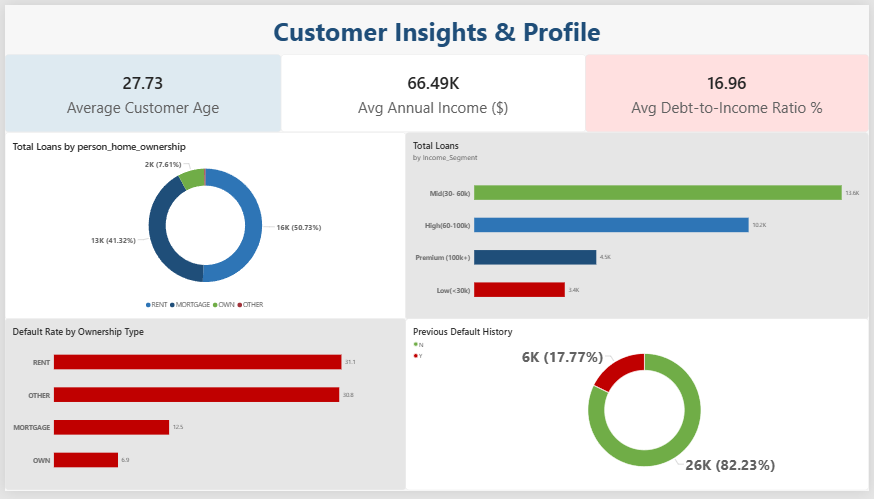

This screenshot's page, from the dashboard's own definition file:
{"tool":"powerbi","page":{"name":"Customer Insights","canvas":[1920,1080],"ordinal":2},"visuals":[{"type":"textbox","box":[0,0,1920,109.8],"z":0},{"type":"card","fields":{"Values":["credit_risk_dataset.Avg Customer Age"]},"box":[0,111.1,613.6,171.9],"z":1000},{"type":"card","fields":{"Values":["credit_risk_dataset.Avg Customer Income"]},"box":[613.6,111.1,677,171.9],"z":2000},{"type":"card","fields":{"Values":["credit_risk_dataset.Avg Debt-to-Income Ratio"]},"box":[1290.6,111.1,629.4,171.9],"z":3000},{"type":"donutChart","fields":{"Y":["credit_risk_dataset.Total Loans"],"Category":["credit_risk_dataset.person_home_ownership"]},"box":[0,283,891.2,415.2],"z":4000},{"type":"barChart","fields":{"Category":["credit_risk_dataset.Income_Segment"],"Y":["credit_risk_dataset.Total Loans"]},"box":[891.2,283,1028.8,415.2],"z":5000},{"type":"barChart","title":"Default Rate by Ownership Type","fields":{"Y":["credit_risk_dataset.Default Rate %"],"Category":["credit_risk_dataset.person_home_ownership"]},"box":[0,698.2,891.2,380.8],"z":6000},{"type":"donutChart","title":"Previous Default History","fields":{"Y":["credit_risk_dataset.Total Loans"],"Category":["credit_risk_dataset.cb_person_default_on_file"]},"box":[891,698,1029,381],"z":7000}]}

Visuals, with their boxes in screenshot pixels (x1, y1, x2, y2), scaled from the page's 1920x1080 canvas onto the 874x499 screenshot:
textbox: box(0, 0, 873, 51)
card - credit_risk_dataset.Avg Customer Age: box(0, 51, 279, 131)
card - credit_risk_dataset.Avg Customer Income: box(279, 51, 587, 131)
card - credit_risk_dataset.Avg Debt-to-Income Ratio: box(587, 51, 873, 131)
donutChart - credit_risk_dataset.Total Loans x credit_risk_dataset.person_home_ownership: box(0, 131, 406, 323)
barChart - credit_risk_dataset.Income_Segment x credit_risk_dataset.Total Loans: box(406, 131, 873, 323)
"Default Rate by Ownership Type" barChart: box(0, 323, 406, 498)
"Previous Default History" donutChart: box(406, 323, 873, 498)
